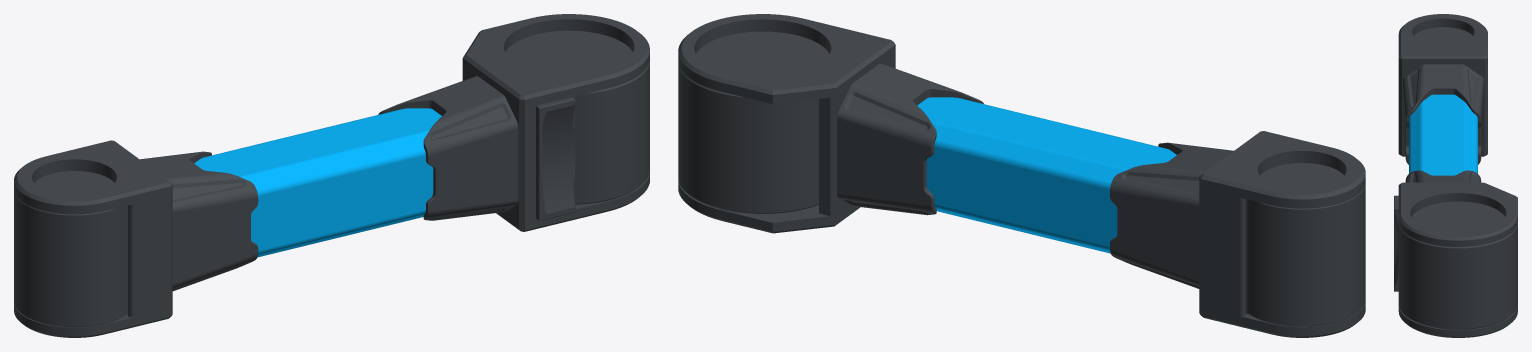
3 views of the same model, side by side, from view 1: azimuth 30°, elevation 25°; view 2: azimuth 150°, elevation 25°; view 3: azimuth 270°, elevation 25° (orthographic). The views are drawn at different scales.
Parts seen in each view (by area): view 1: Dummy Link 2 4340; view 2: Dummy Link 2 4340; view 3: Dummy Link 2 4340.
Boxes of the visible parts, box(x1,y1,x2,y2) form: Dummy Link 2 4340: box(14, 14, 649, 337); Dummy Link 2 4340: box(678, 14, 1365, 337); Dummy Link 2 4340: box(1394, 14, 1517, 337).
Size of the model in its own units: 0.3404 by 0.0707 by 0.079.
